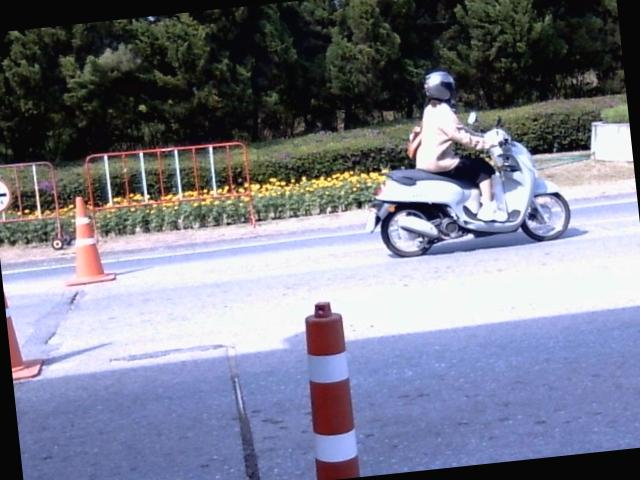helmet: (421, 68, 456, 100)
motor: (366, 119, 570, 256)
person: (407, 70, 505, 220)
